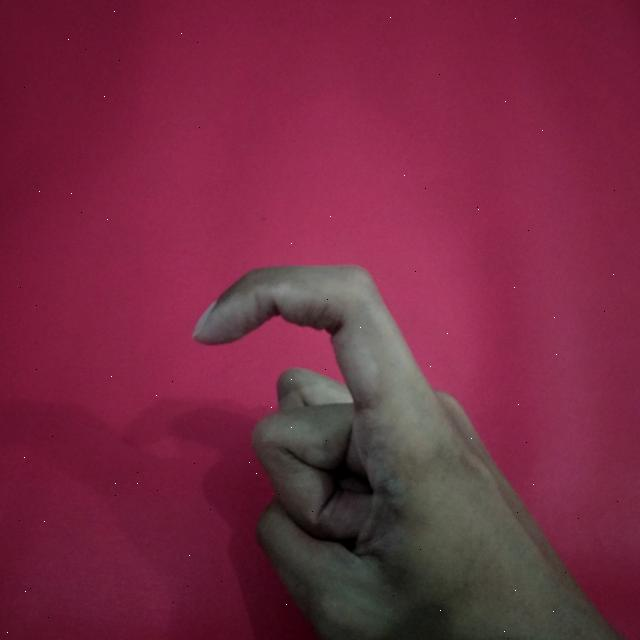X: (187, 251, 640, 640)
